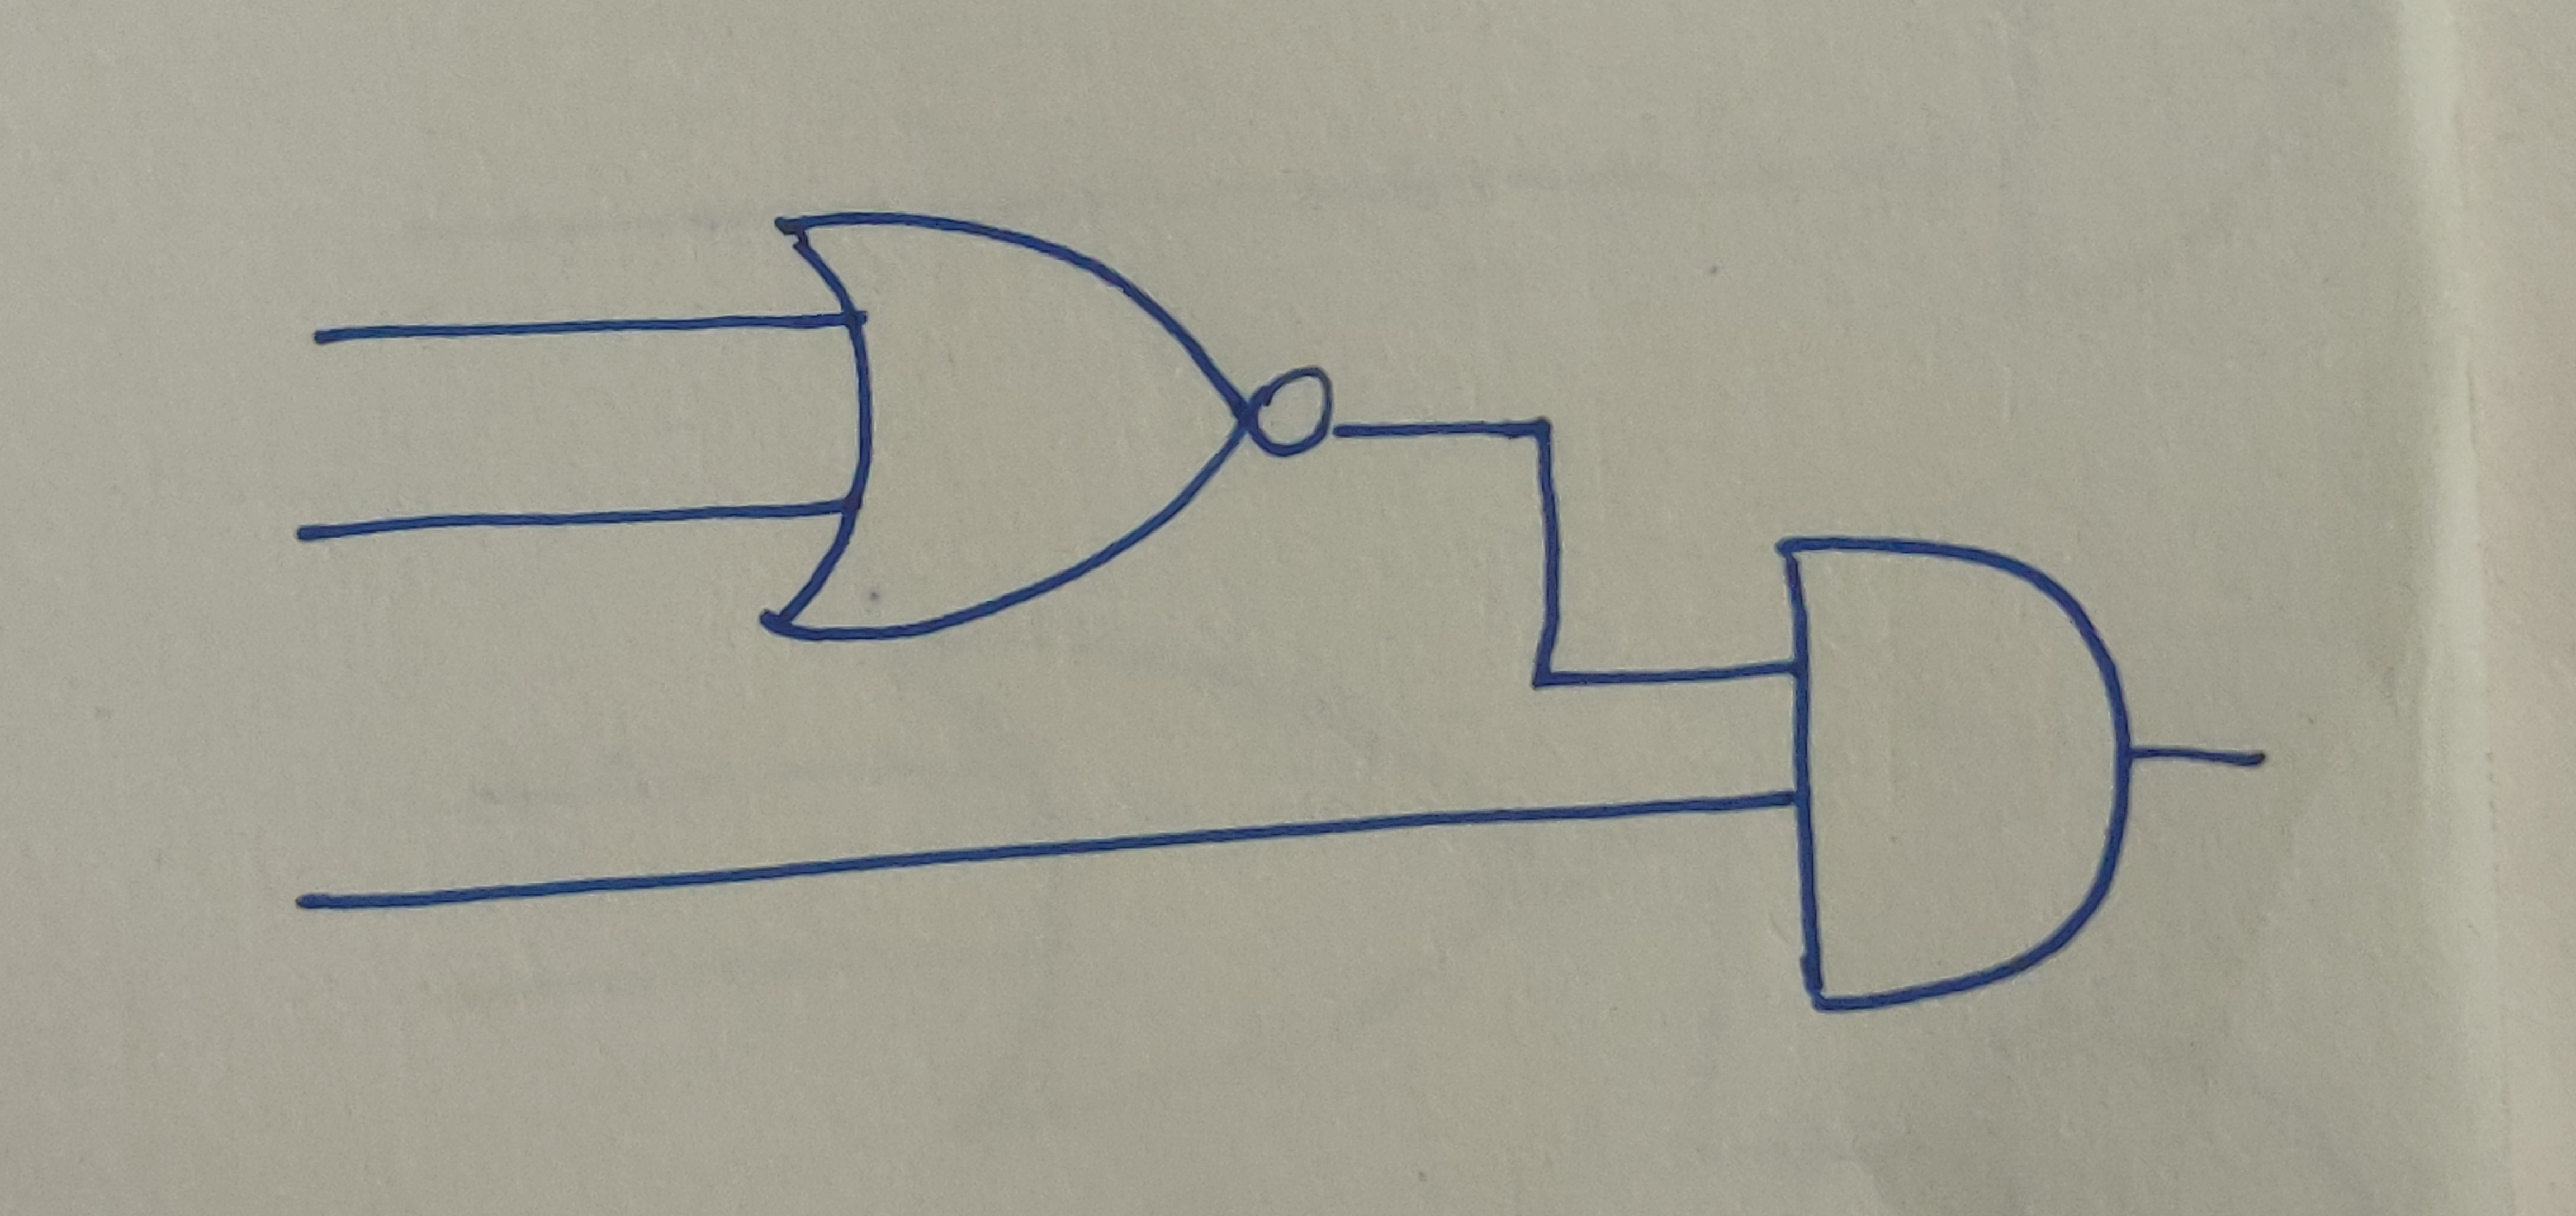and: (1768, 529, 2149, 1029)
not: (1245, 362, 1350, 473)
or: (752, 204, 1249, 651)
